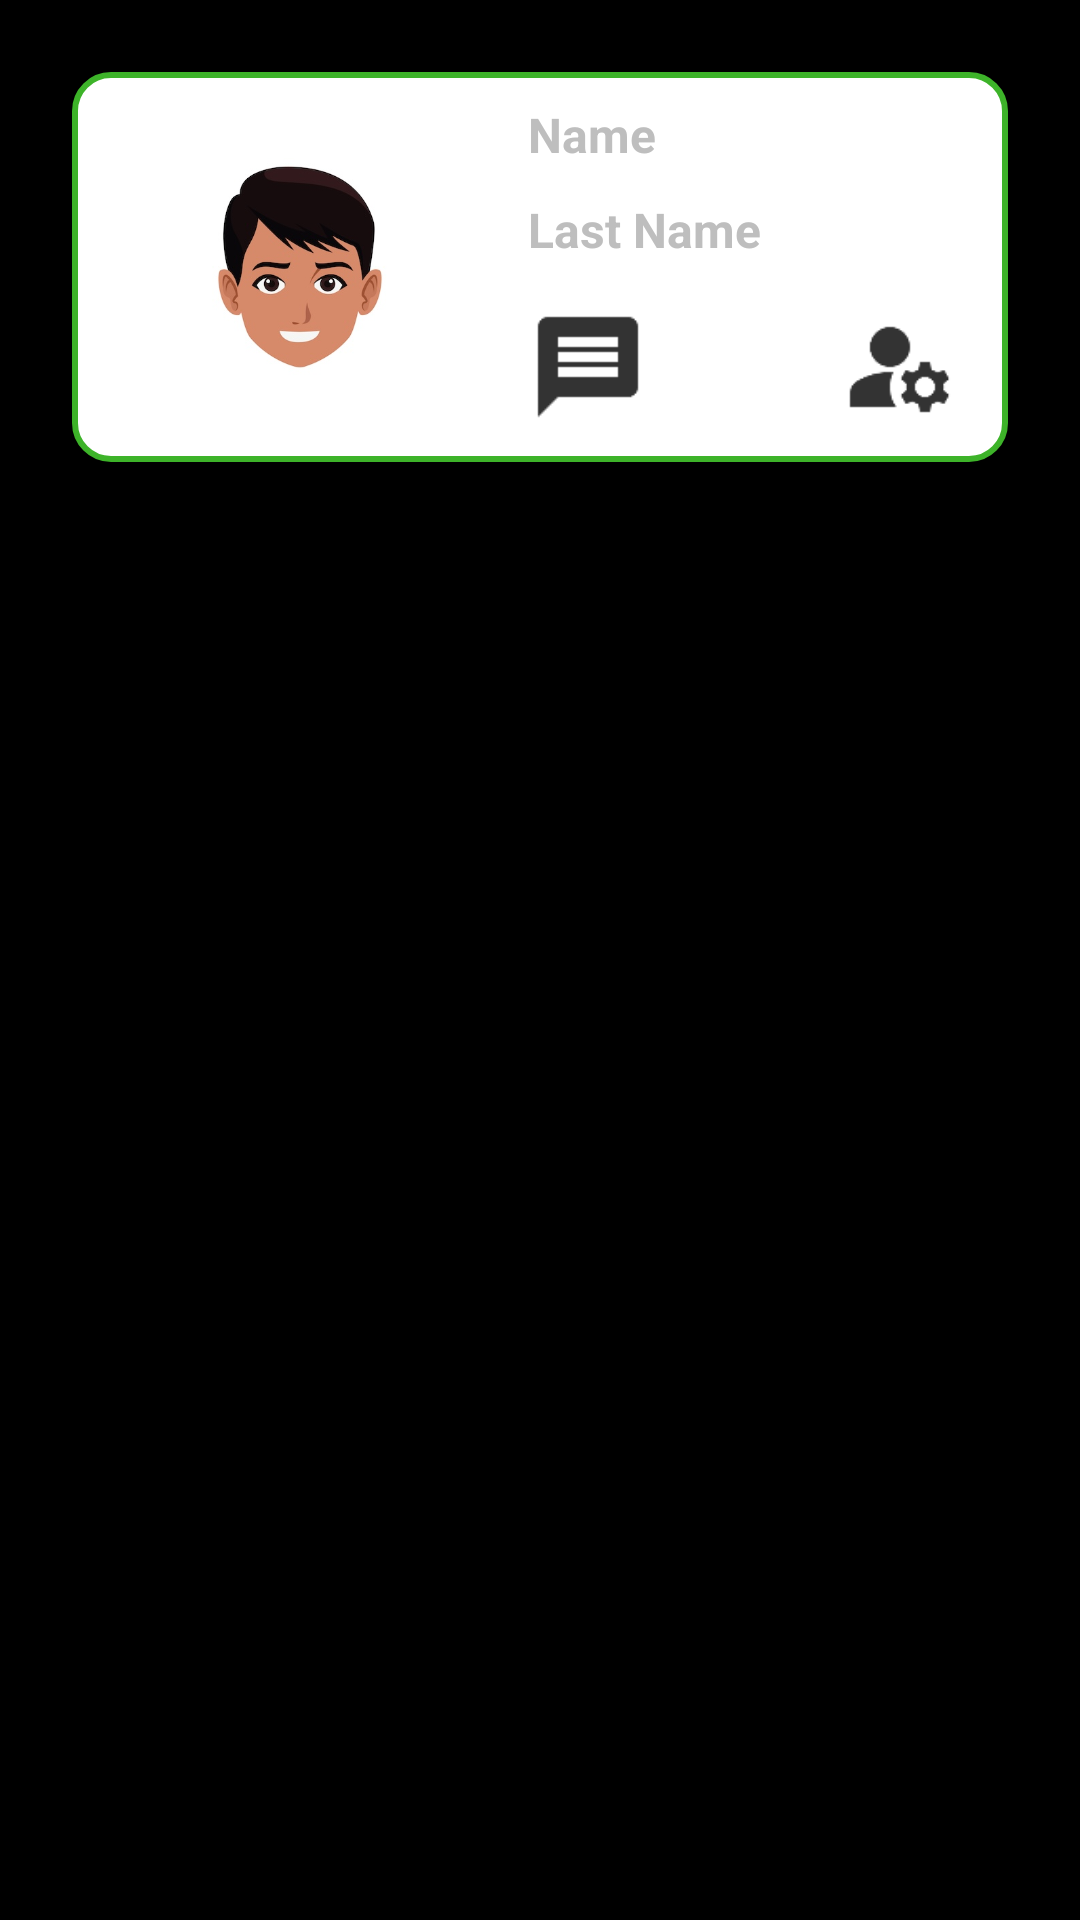

Screen size 1080 x 1920. Icon name, then its center in pixels as [x,y]:
Client Manager: [899,369]
Messages: [588,366]
